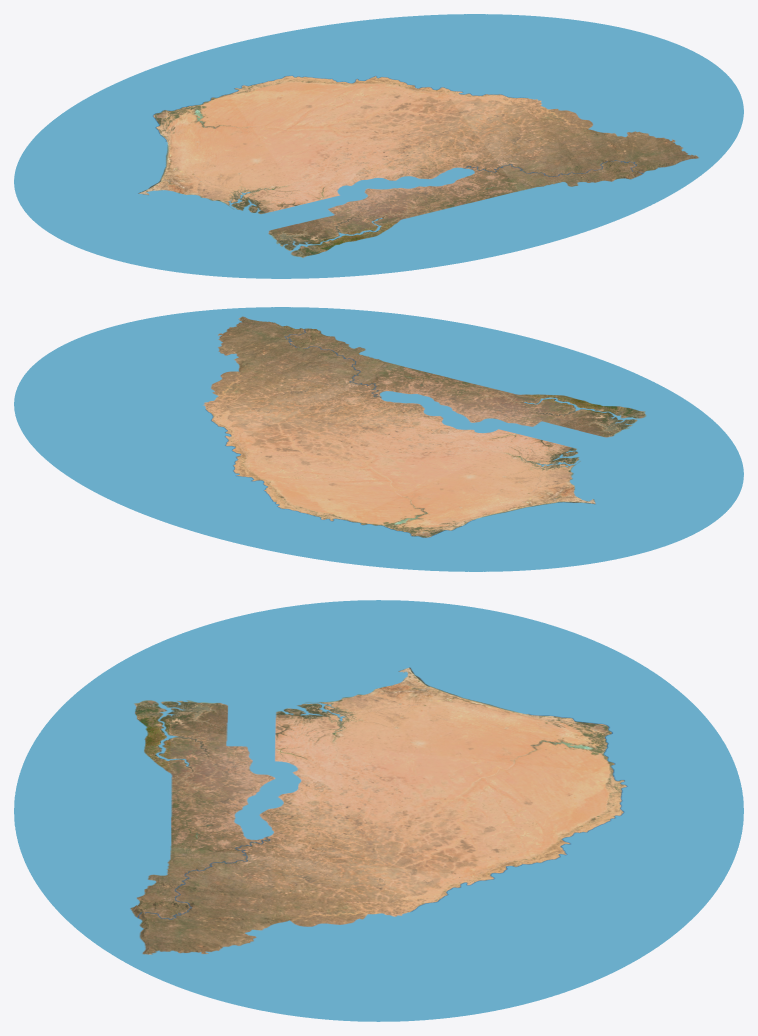
Rendered from SEN-previa-terrain.glb.
3 renders of one model, top to bottom at view 1: azimuth 30°, elevation 25°; view 2: azimuth 150°, elevation 25°; view 3: azimuth 270°, elevation 25°, orthographic. The views are drawn at different scales.
Parts seen in each view (by area): view 1: Senegal; view 2: Senegal; view 3: Senegal.
Part boxes in pixels (x1,y1,x2,y2): Senegal: (14,14,743,278); Senegal: (14,307,743,571); Senegal: (14,600,743,1021).
Size of the model in its own units: 2.59 by 0.0122 by 1.89.
1 material, 1 textured.
